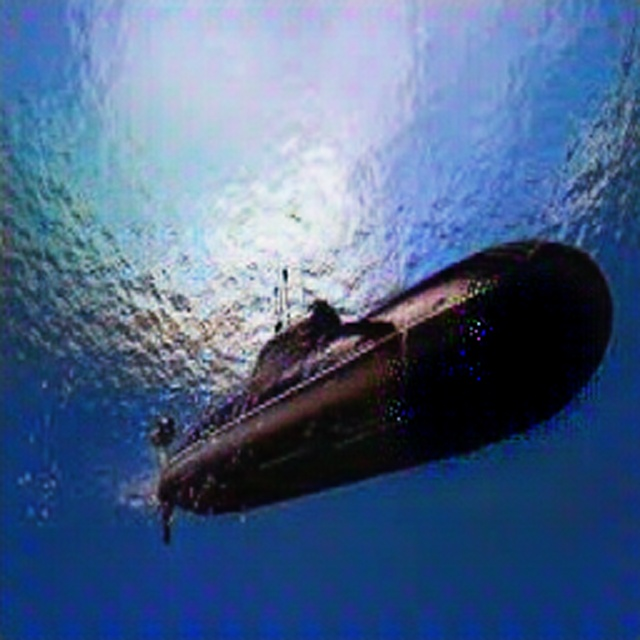submarine: (127, 222, 619, 542)
